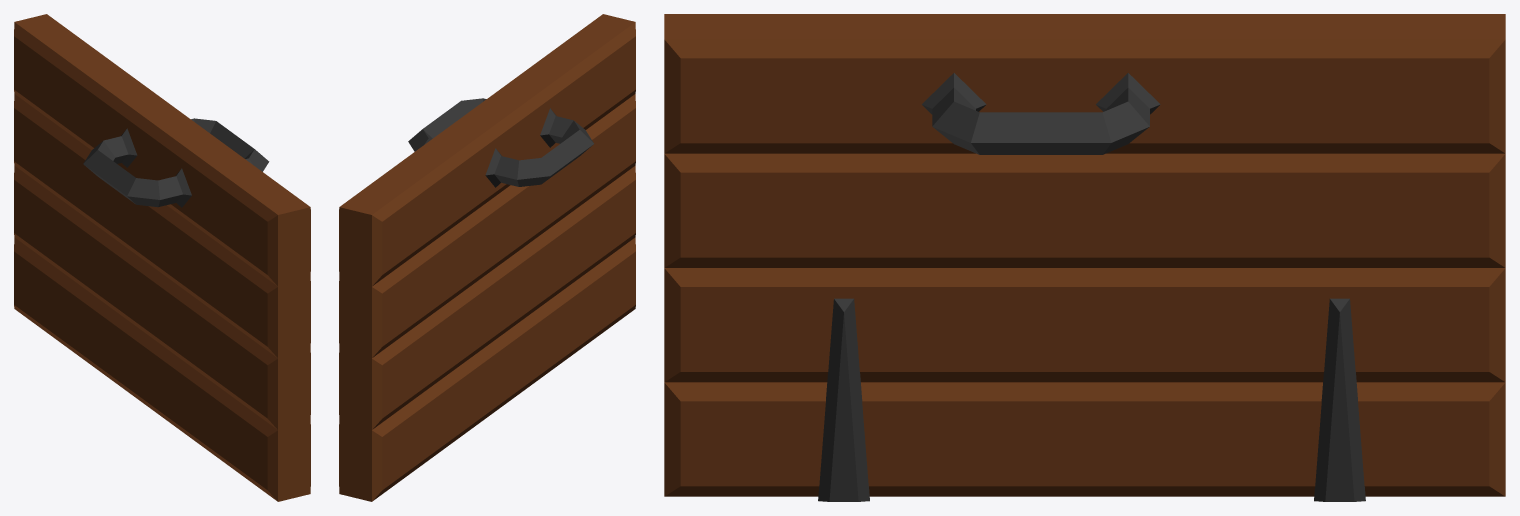
File: door.glb
3 renders of one model, left to right at view 1: azimuth 30°, elevation 25°; view 2: azimuth 150°, elevation 25°; view 3: azimuth 270°, elevation 25°, orthographic. The views are drawn at different scales.
Visible parts, largest first — view 1: door, door_metal; view 2: door, door_metal; view 3: door, door_metal.
Part boxes in pixels (<box>): door: <box>14,14,310,501</box>; door_metal: <box>83,118,269,207</box>; door: <box>339,14,635,501</box>; door_metal: <box>408,98,593,187</box>; door: <box>664,14,1505,496</box>; door_metal: <box>818,73,1365,501</box>.
Bounding box in the file's own units: 0.3111 × 0.6003 × 1.
